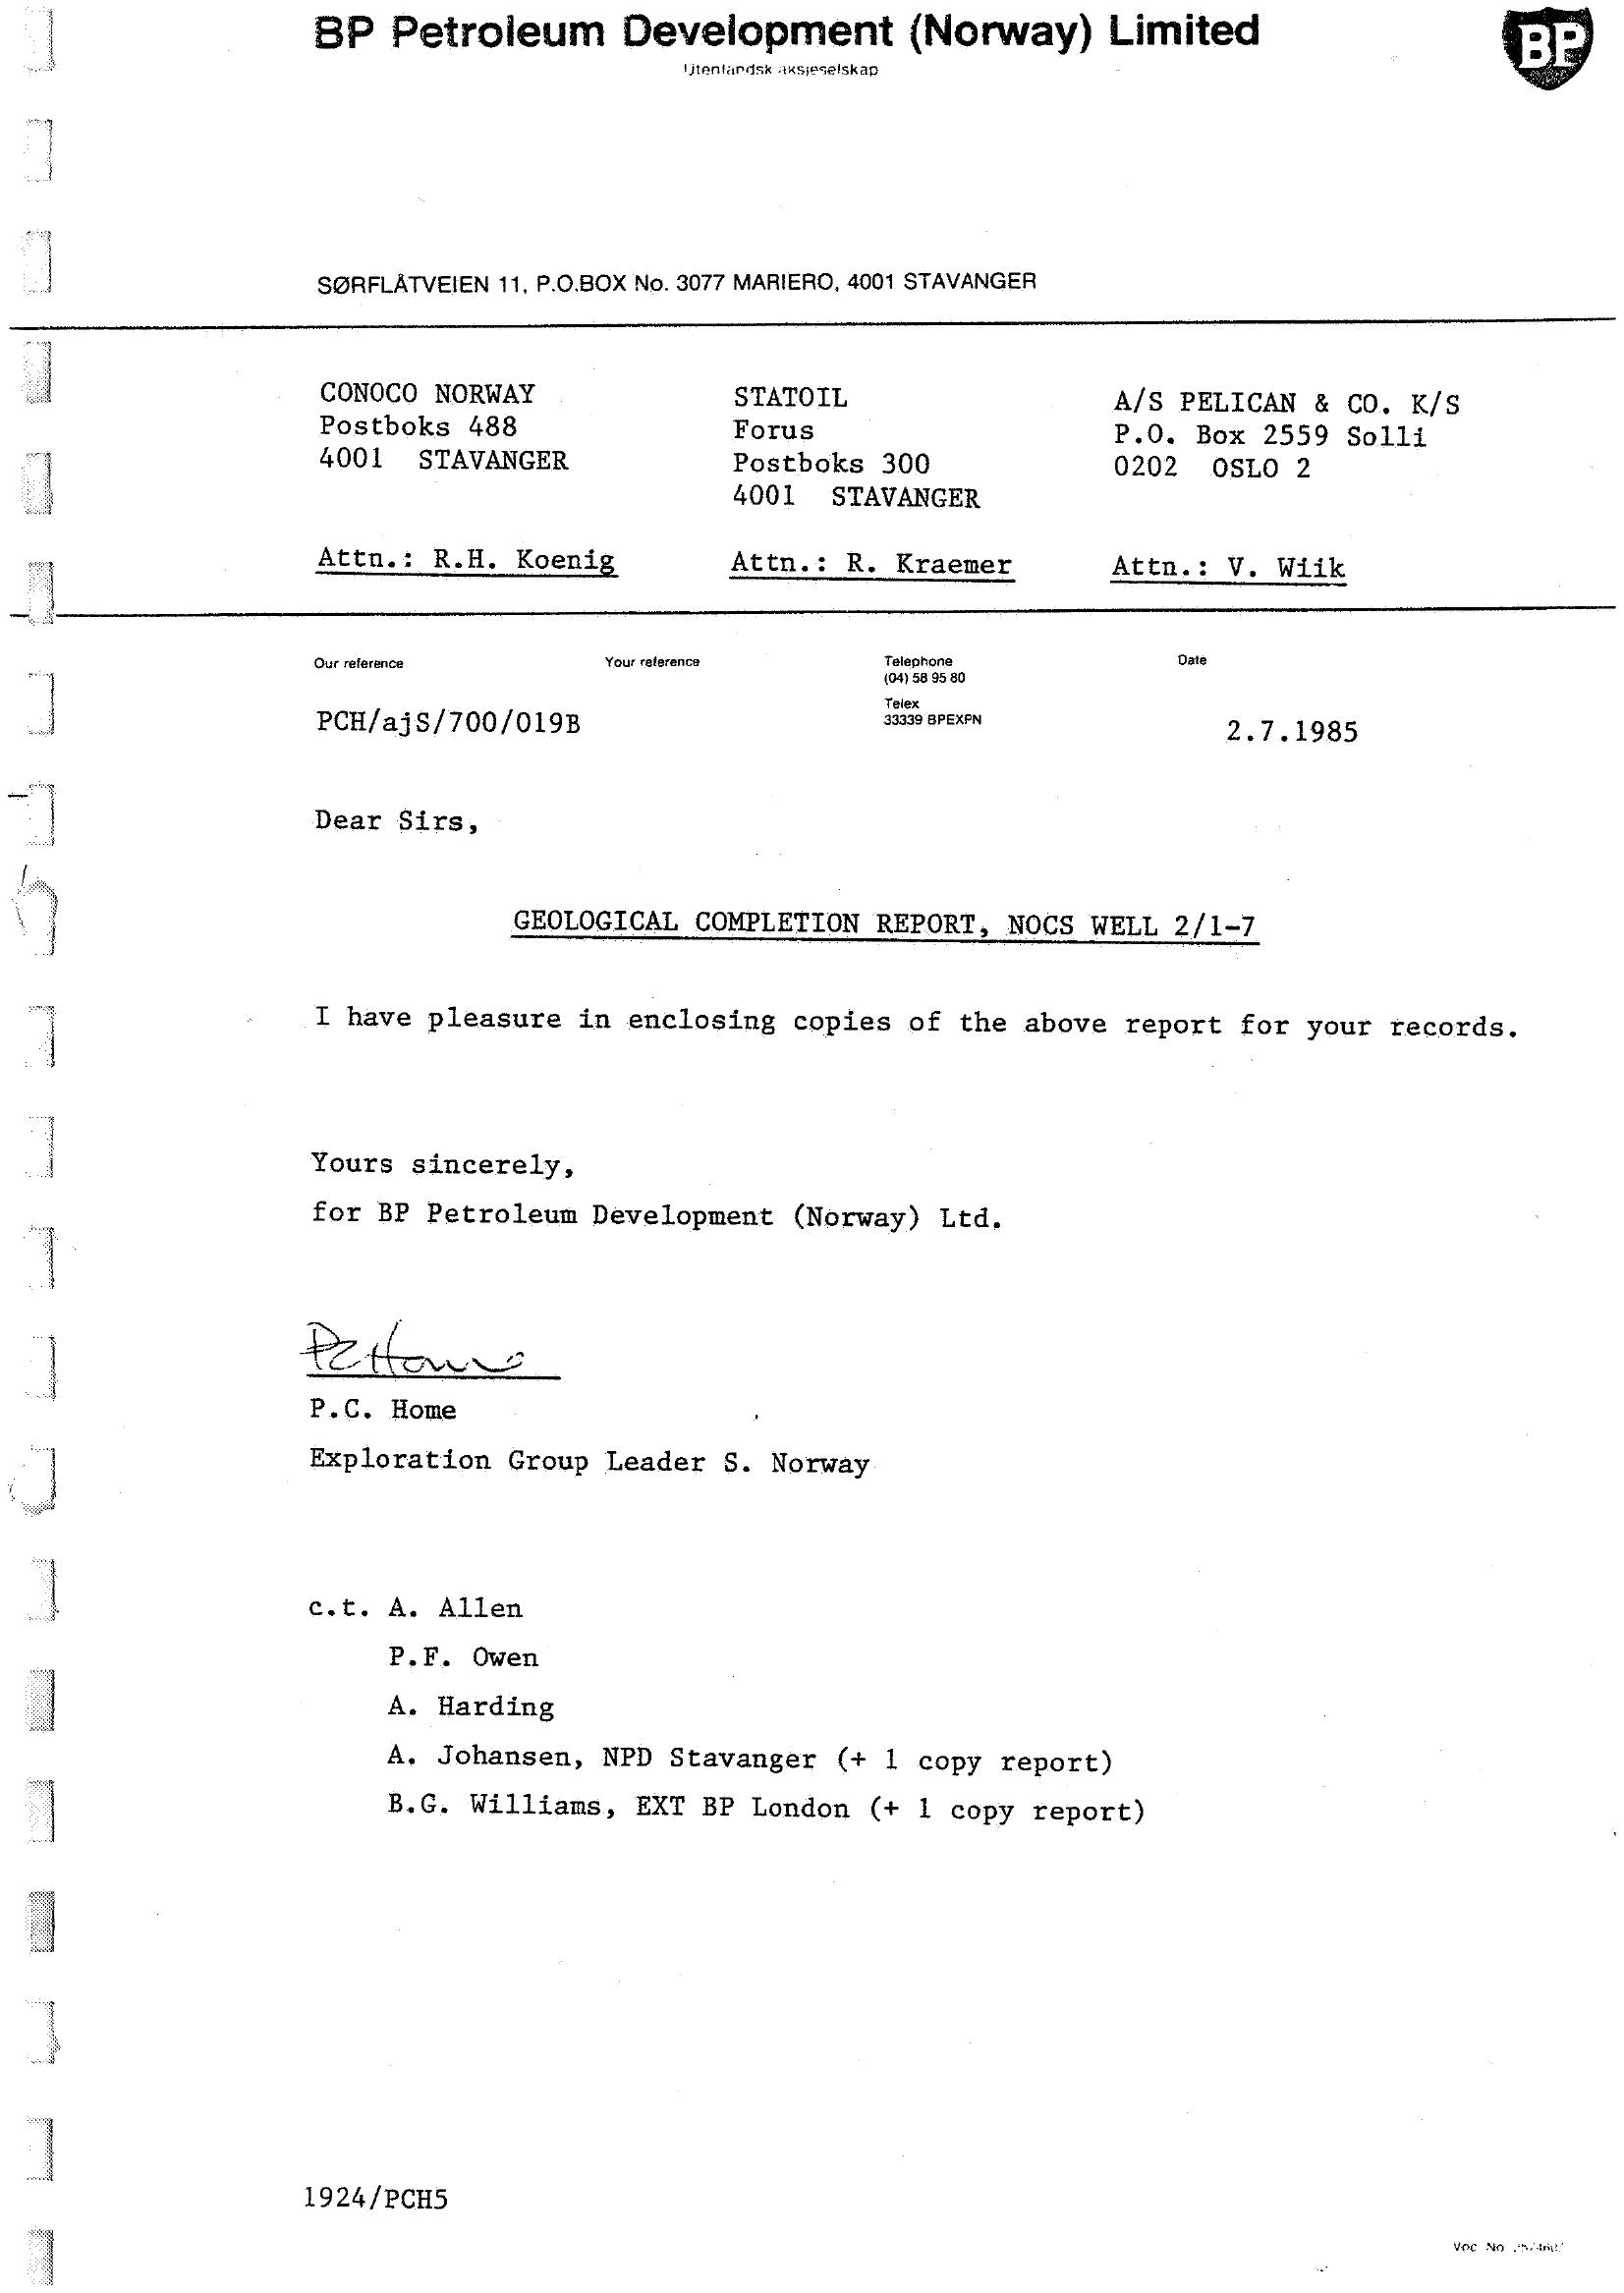text: (271, 884, 1538, 1260), (269, 1564, 1204, 1901), (286, 351, 1468, 594), (262, 631, 1455, 861), (304, 5, 1294, 109), (285, 1386, 903, 1499), (299, 257, 1042, 311)
undefined: (279, 1302, 559, 1397), (1483, 2, 1624, 111)
